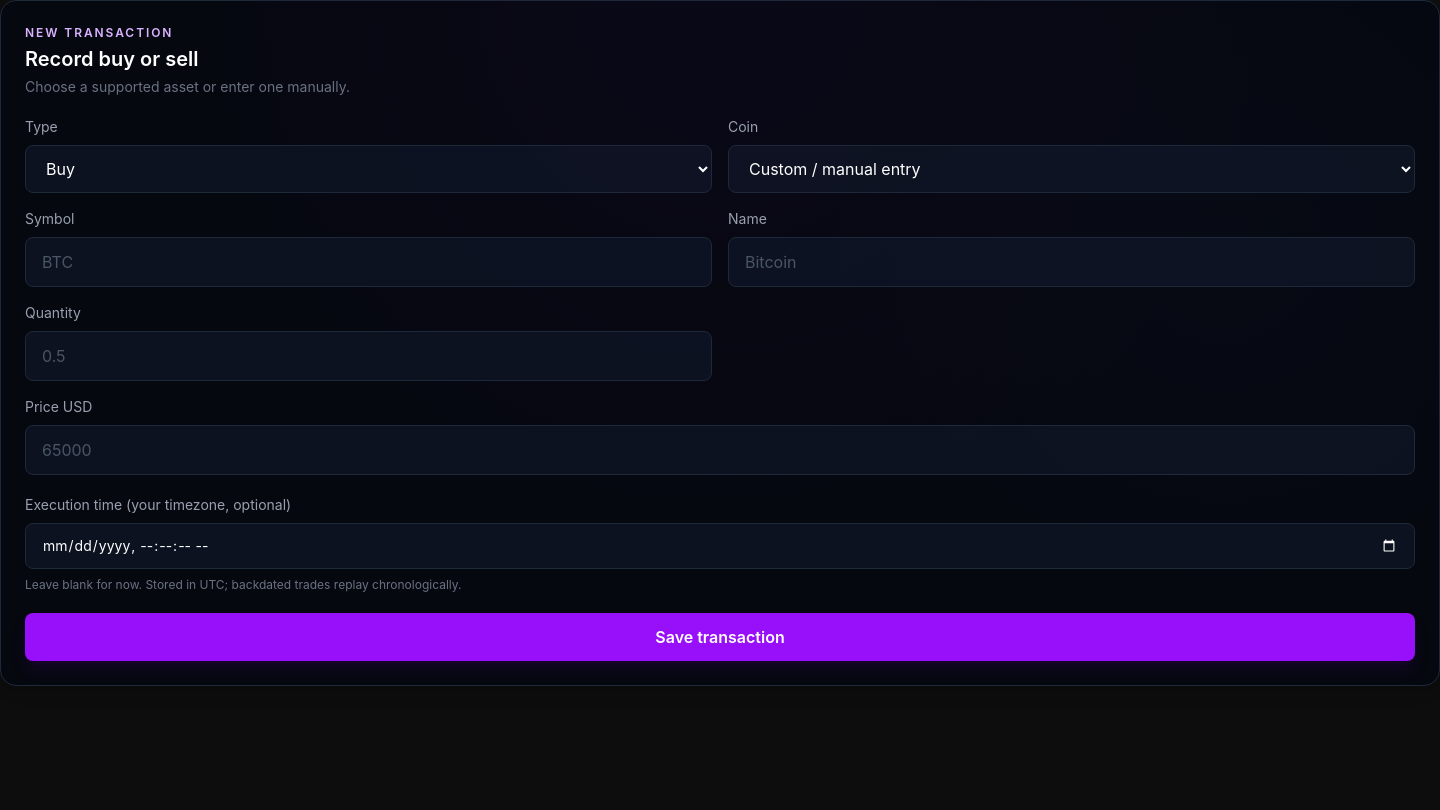
Test: AddTransactionForm › shows validation errors for invalid manual input
Type "B" into the field labelled "Symbol" at (368,262), box [25,237,712,287]
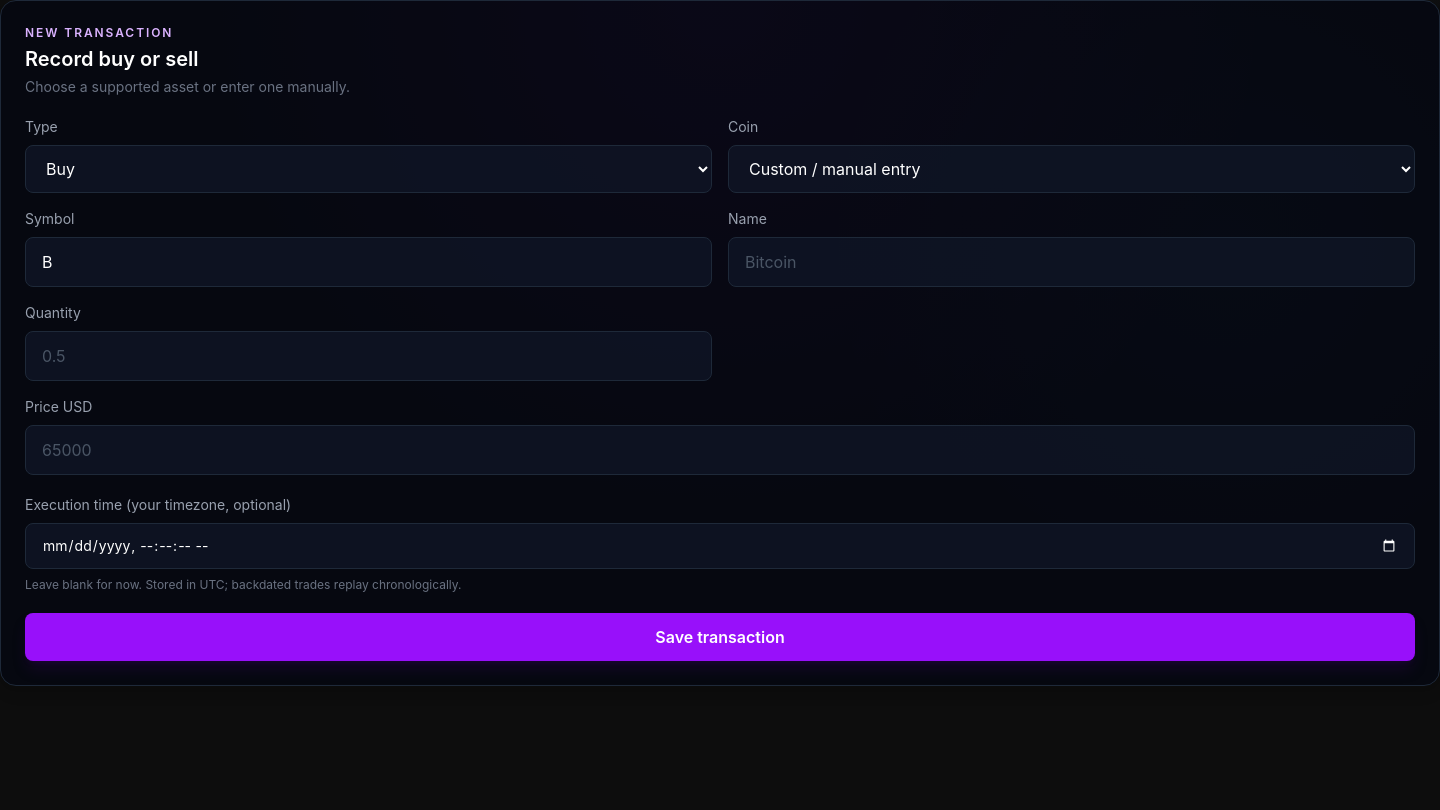
Type "0" into the number field labelled "Quantity" at (368,356), box [25,331,712,381]
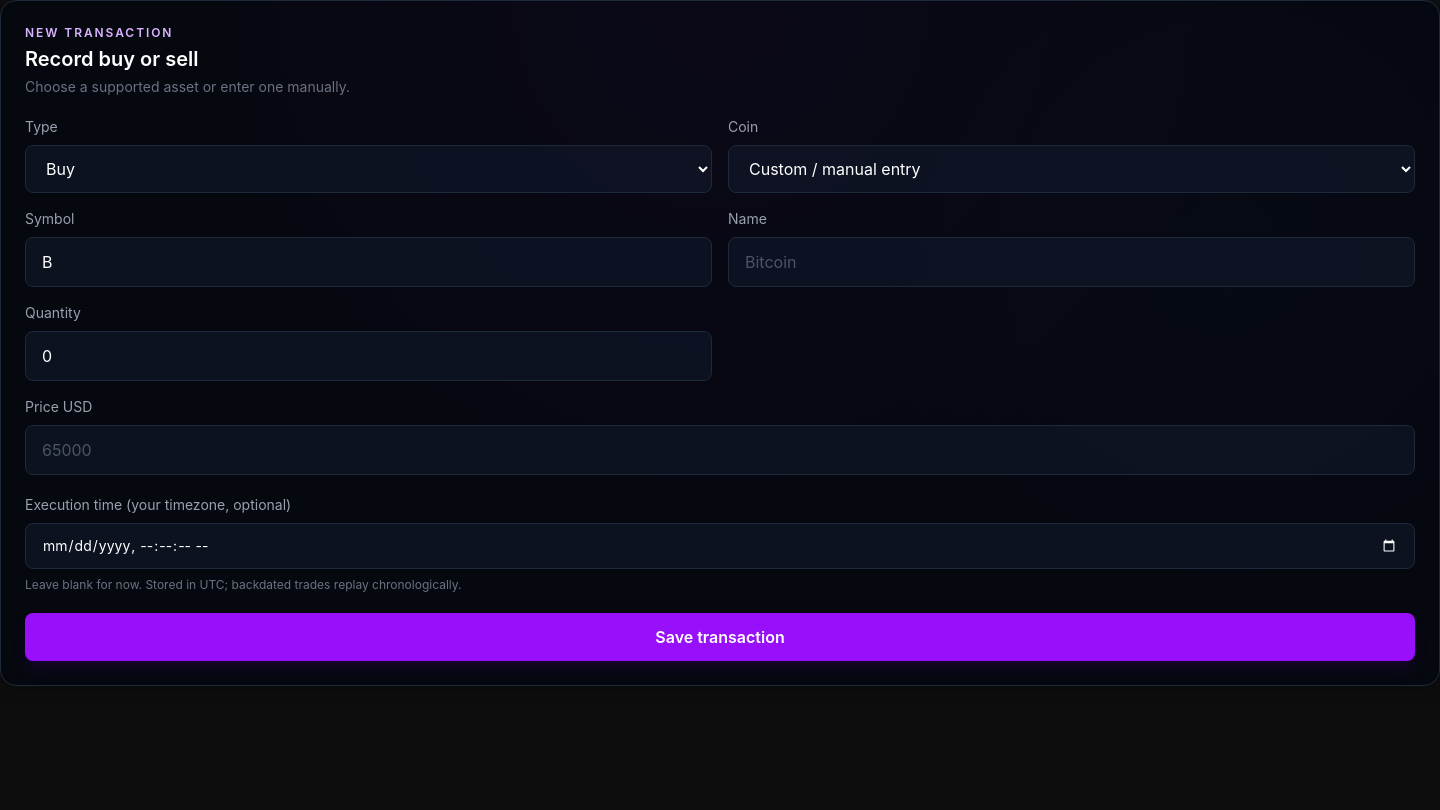
Type "-1" into the number field labelled "Price USD" at (720,450), box [25,425,1415,475]
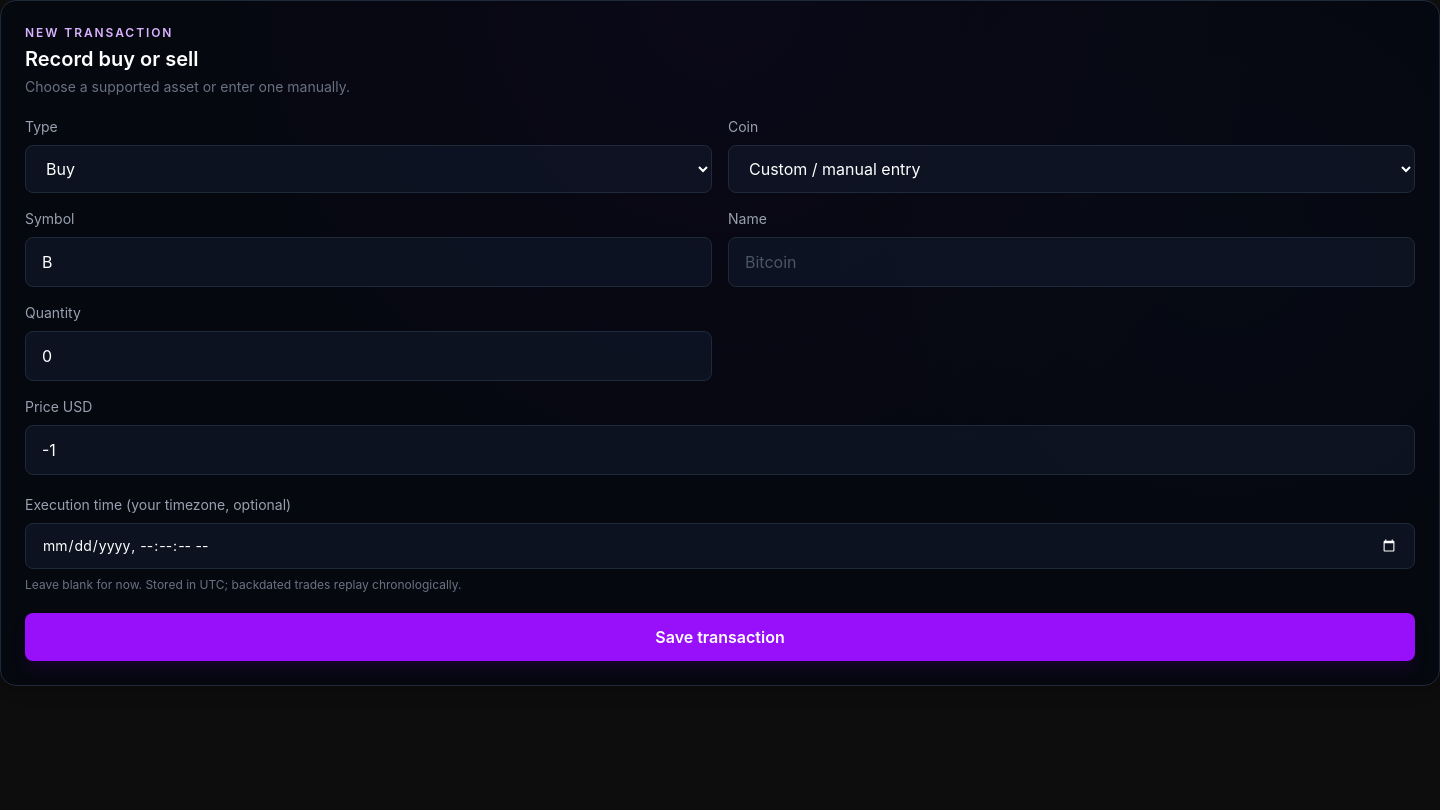
Click the button "Save transaction" at (720,637), box [25,613,1415,661]
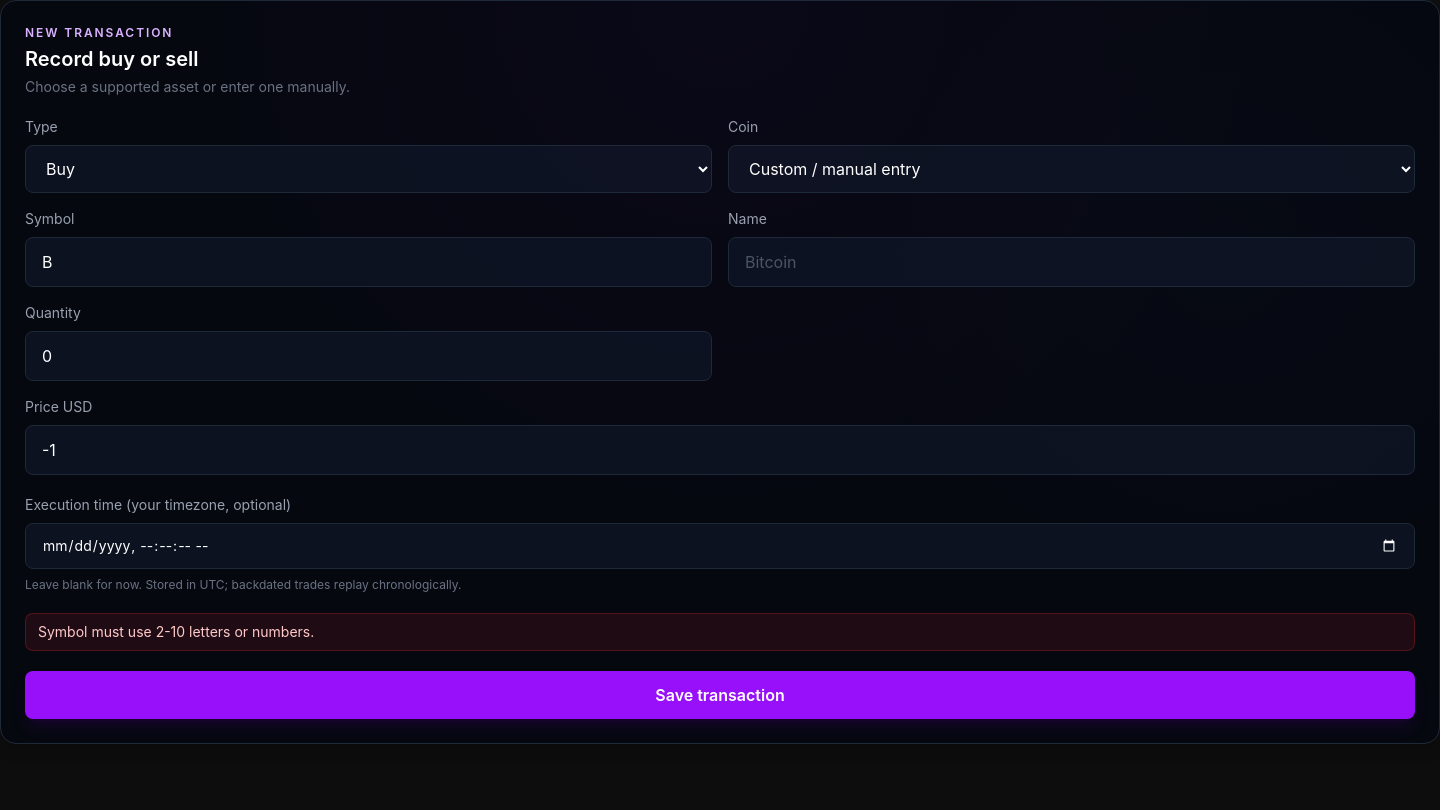
Expected: the text "Symbol must use 2-10 letters or numbers." is shown, [25,613,1415,651]
